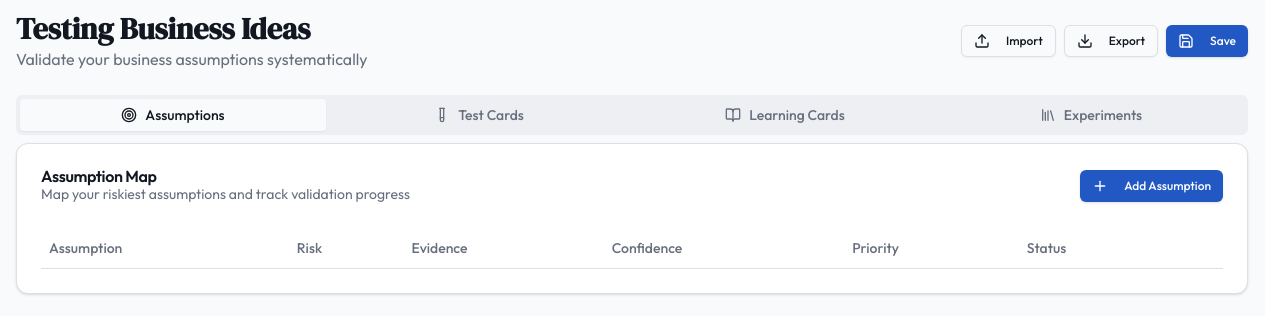
Test: TestingBusinessIdeasCanvas › Tab Navigation › switches to Experiments tab
Click the tab "Experiments" at (1091, 115), box [938,99,1244,131]
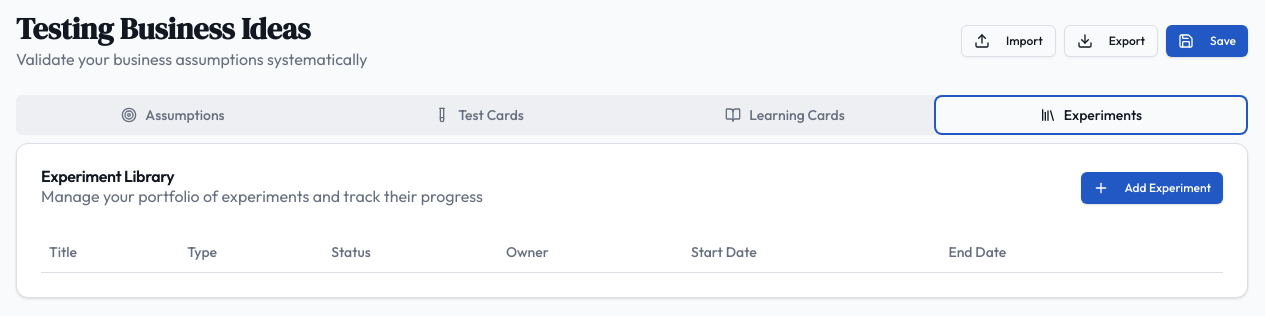
Result: the text "Experiment Library" is shown at [41,166,174,186]
Result: the text "Manage your portfolio of experiments and track their progress" is shown at [41,184,483,208]
Result: the button "Add Experiment" is shown at [1080,172,1223,204]
